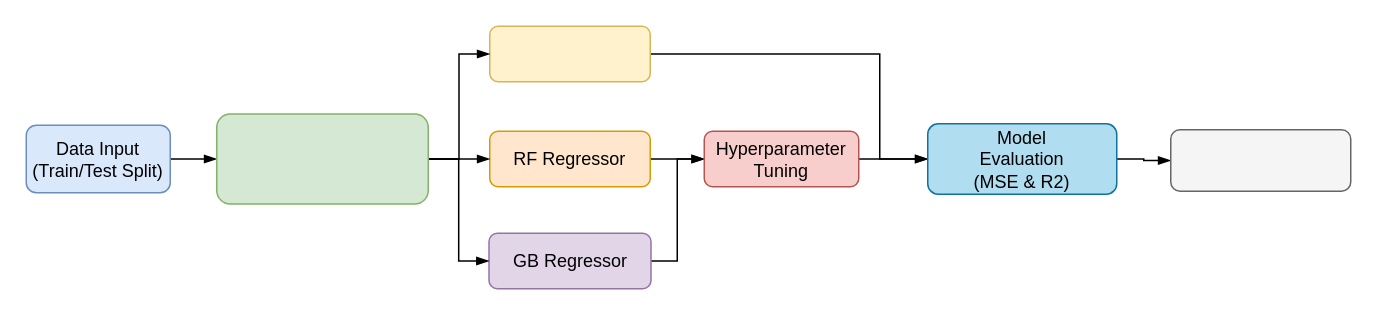
The diagram is 1377 pixels wide and 315 high, and some of its shapes have lost their labels. The centre of each missing label's shape, as x and y in pixels:
Linear Regression: the point at 569,53
Pipeline Column Transformer (Numerical & Categorical Feature): the point at 321,158
Result (Comparison Model): the point at 1260,159
